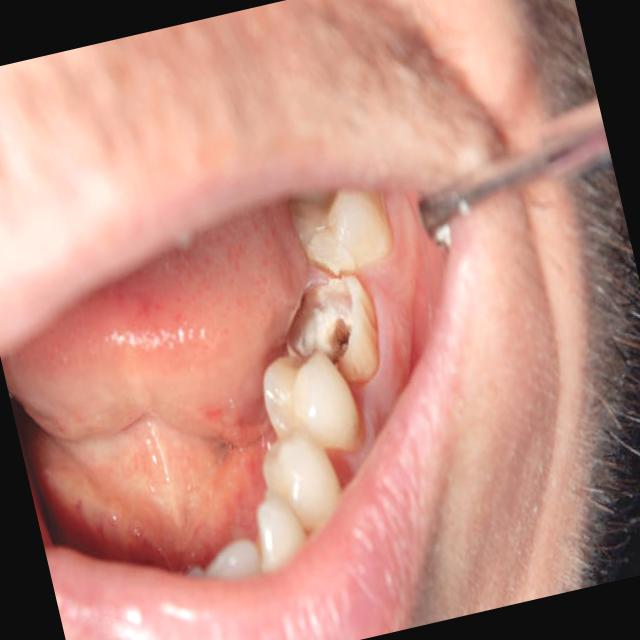caries: (249, 233, 395, 404)
